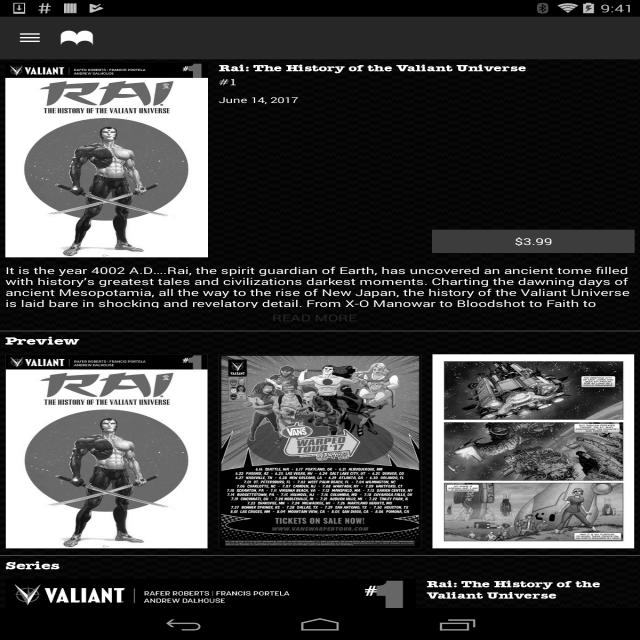Button: (432, 230, 635, 253)
ImageButton: (0, 30, 60, 46)
ImageView: (0, 59, 640, 608), (5, 63, 208, 257), (219, 354, 421, 548), (6, 354, 207, 548), (433, 354, 634, 548), (5, 578, 415, 640), (60, 27, 94, 49)
TextView: (5, 264, 635, 308), (5, 559, 635, 572), (5, 335, 635, 347), (218, 62, 634, 74), (218, 94, 634, 106), (218, 77, 634, 88), (426, 579, 634, 601), (426, 604, 634, 615), (272, 311, 357, 324)
